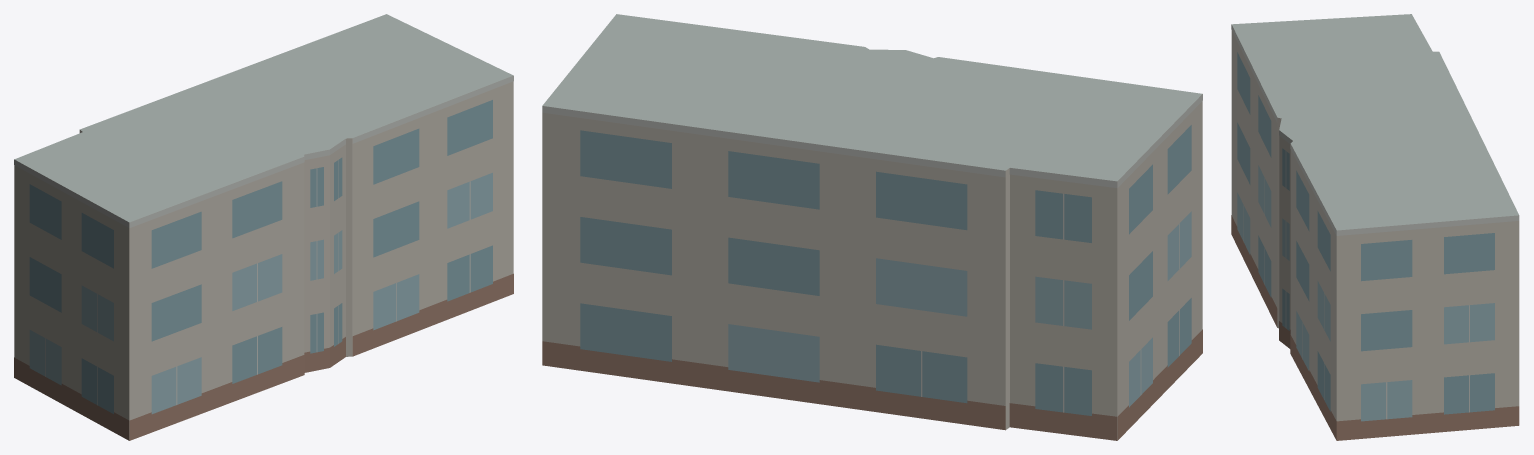
File: survey-upis-32509435.glb
The picture shows the model from 3 angles, left to right: view 1: azimuth 30°, elevation 25°; view 2: azimuth 150°, elevation 25°; view 3: azimuth 270°, elevation 25°; orthographic projection. The views are drawn at different scales.
Parts seen in each view (by area): view 1: survey-upis-32509435.tmp; view 2: survey-upis-32509435.tmp; view 3: survey-upis-32509435.tmp.
Boxes of the visible parts, <box> form: survey-upis-32509435.tmp: <box>14,14,513,440</box>; survey-upis-32509435.tmp: <box>542,14,1202,440</box>; survey-upis-32509435.tmp: <box>1231,14,1519,440</box>.
Size of the model in its own units: 20.54 by 9.3 by 11.54.
